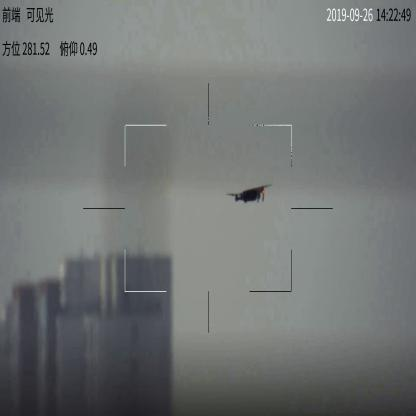uav: (227, 179, 273, 205)
